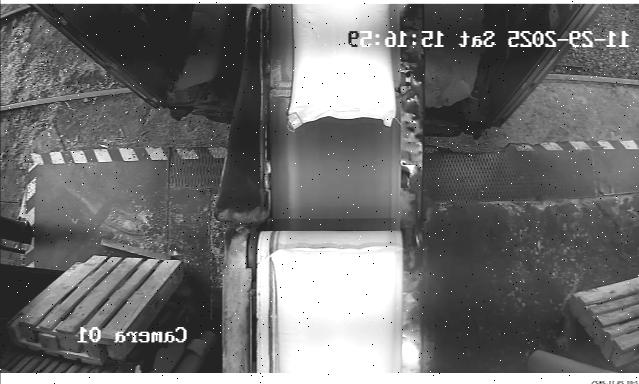bag: (269, 246, 401, 373), (287, 4, 395, 129)
